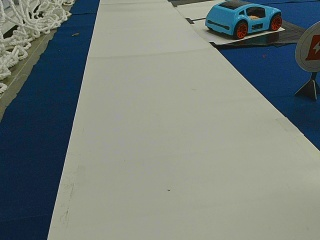battery: (295, 21, 319, 74)
car: (205, 3, 282, 38)
